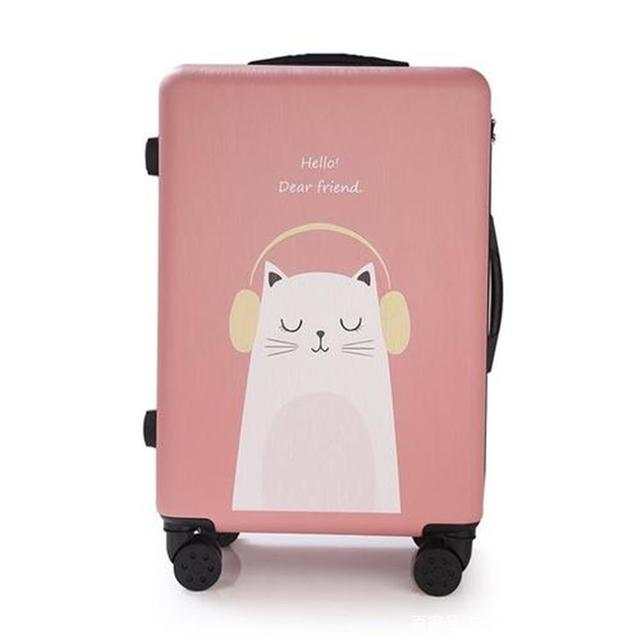box: (158, 64, 492, 537)
handle: (486, 214, 503, 373), (247, 52, 410, 65)
wheel: (413, 545, 463, 597), (173, 539, 222, 592)
